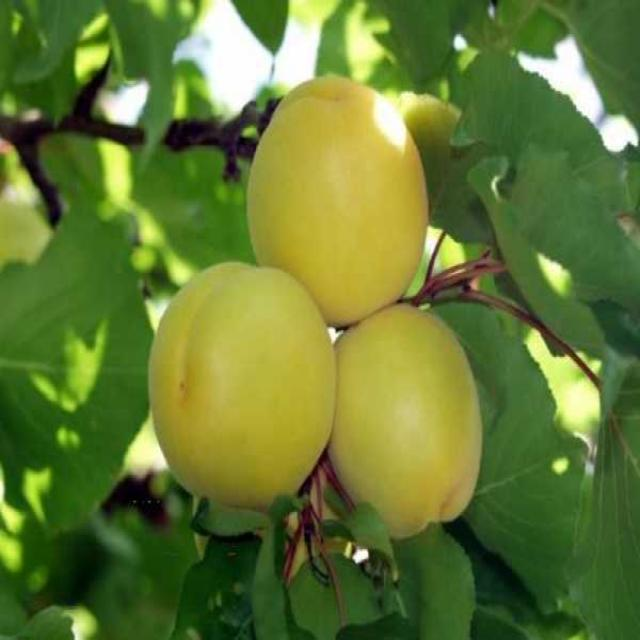kayisi: (246, 76, 429, 327), (151, 262, 336, 504), (335, 304, 485, 539)
yaprak: (0, 205, 160, 541)
